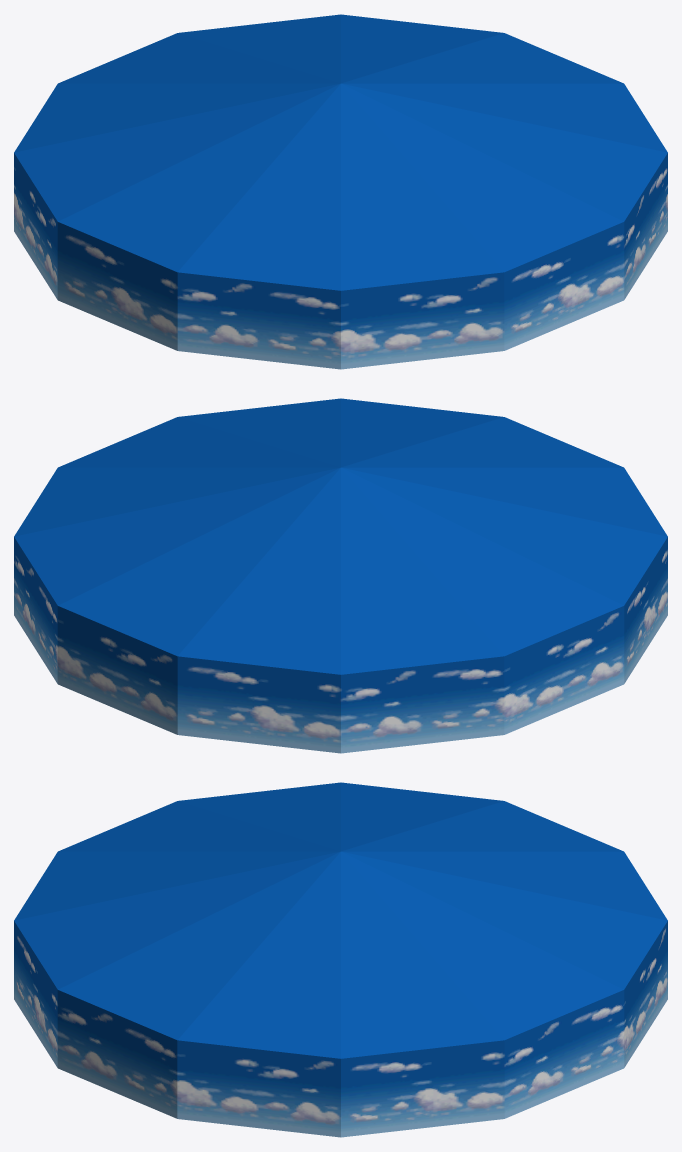
Rendered from beach_courseD-beach_courseD_V.glb.
3 views of the same model, one above another, from view 1: azimuth 30°, elevation 25°; view 2: azimuth 150°, elevation 25°; view 3: azimuth 270°, elevation 25° (orthographic).
Visible parts, largest first — view 1: beach_courseD_V; view 2: beach_courseD_V; view 3: beach_courseD_V.
Part boxes in pixels (<box>): beach_courseD_V: <box>14,14,667,369</box>; beach_courseD_V: <box>14,398,667,753</box>; beach_courseD_V: <box>14,782,667,1137</box>.
Bounding box in the file's own units: 779 × 194 × 779.
Materials: 1 (1 with a texture image).
